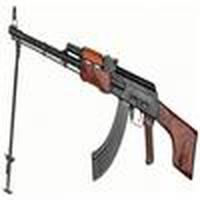gun: (4, 9, 199, 182)
